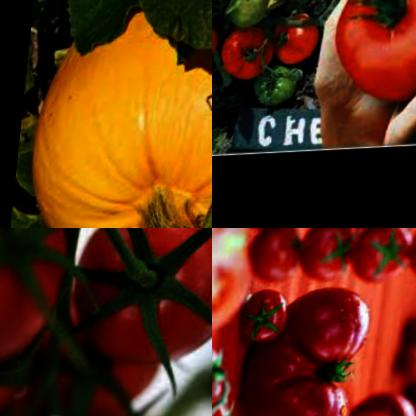pumpkin: (15, 0, 212, 228)
tomato: (70, 228, 212, 361), (232, 286, 375, 416), (0, 228, 79, 372), (40, 329, 168, 416), (329, 0, 416, 116), (212, 228, 268, 329), (216, 16, 284, 97), (345, 228, 416, 291), (0, 326, 49, 416), (272, 6, 330, 77), (297, 228, 358, 288), (250, 59, 305, 117), (243, 286, 289, 354), (253, 228, 307, 284), (356, 381, 416, 416), (212, 0, 236, 73), (212, 339, 241, 398), (230, 0, 273, 30)
